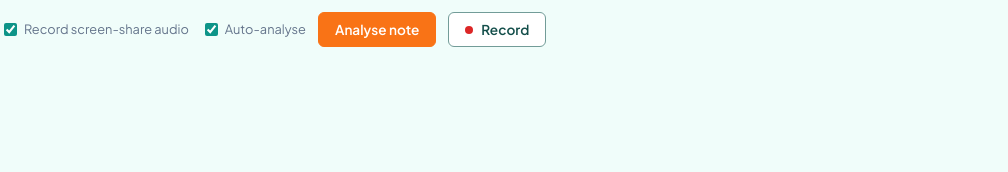
it: what the user is told when an analysis fails › names the connection when the request cannot reach the server
This screenshot has width=1008, height=172.
Click the button "Analyse note" at (377, 30), box left=318, top=12, right=436, bottom=47
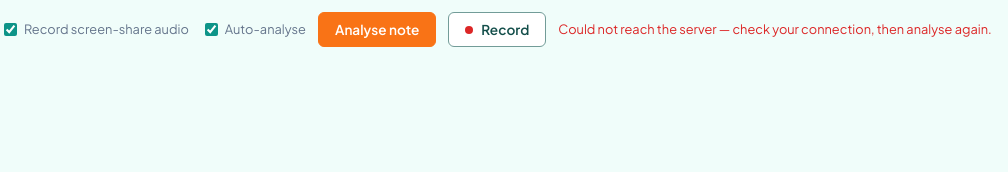
Result: the message "Could not reach the server — check your connection, then analyse again." is shown at left=558, top=19, right=992, bottom=40
Result: the message with test id "transcription-analyse-error" reads "Could not reach the server — check your connection, then analyse again." at left=558, top=21, right=992, bottom=37
